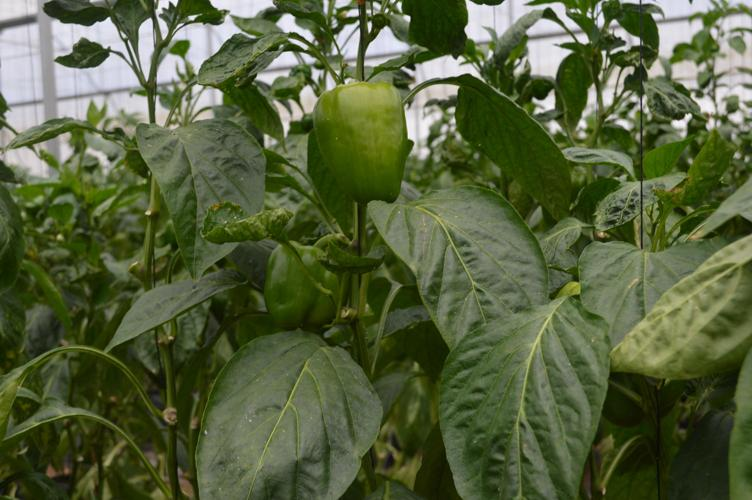BellPepper: (316, 83, 406, 204), (263, 241, 345, 333)
